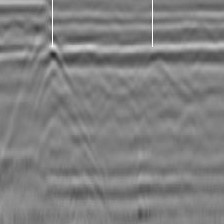Utility: (29, 33, 80, 107)
